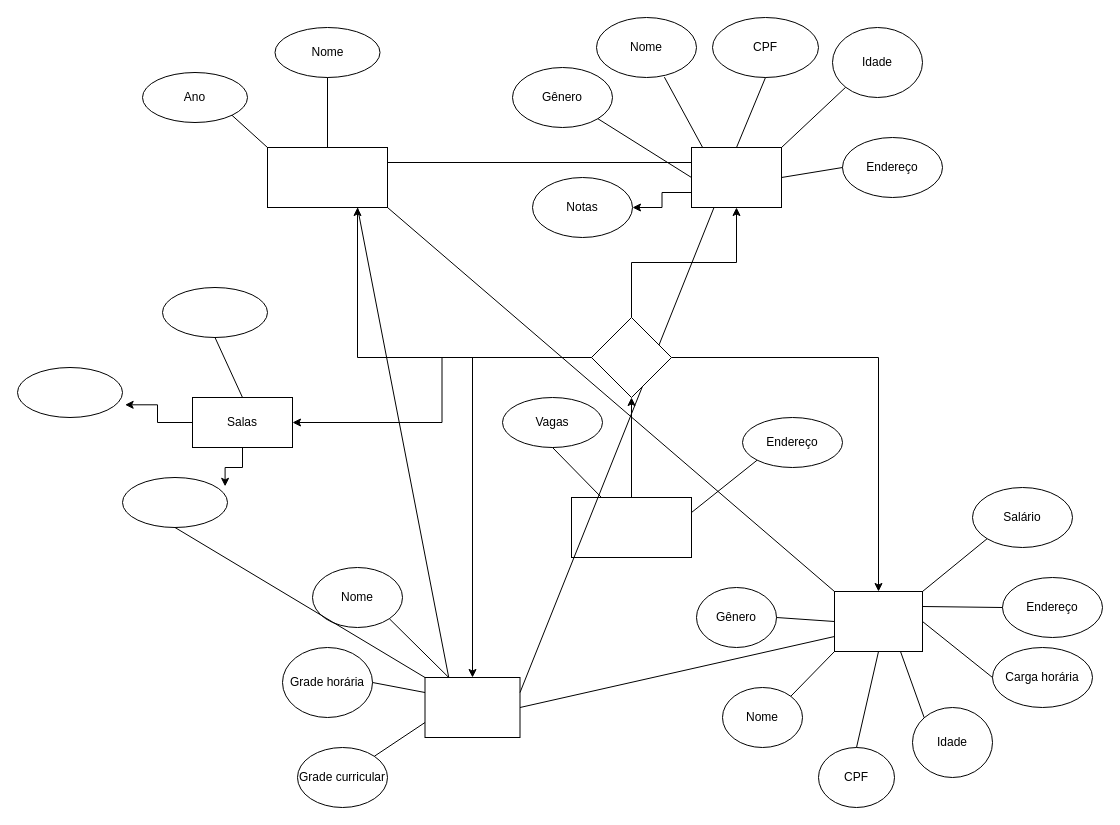
The diagram is 1120 pixels wide and 825 high, and some of its shapes have lost their labels. The shapes that lost their labels are listed below. From the top down, each one's centre as x and y in pixels, then its label:
At (327,177): "Turmas".
At (736,177): "Alunos".
At (215,312): "Quadro".
At (631,357): "Possuí".
At (69,392): "Cadeiras".
At (175,502): "Mesas".
At (631,527): "Universidade".
At (878,621): "Professores".
At (472,707): "Cursos".
